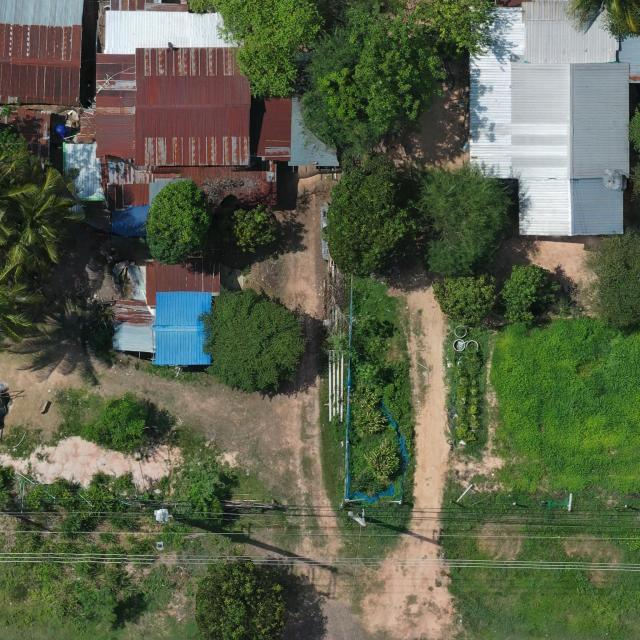Tree: (298, 5, 450, 154), (187, 0, 327, 100), (320, 151, 420, 279), (196, 284, 309, 395), (416, 158, 517, 276), (193, 545, 289, 640), (11, 166, 87, 265), (144, 176, 214, 268), (413, 0, 499, 60), (498, 264, 562, 326), (86, 395, 152, 453), (432, 272, 498, 328), (174, 456, 225, 527), (217, 202, 279, 252), (76, 584, 118, 624), (192, 255, 208, 255)
